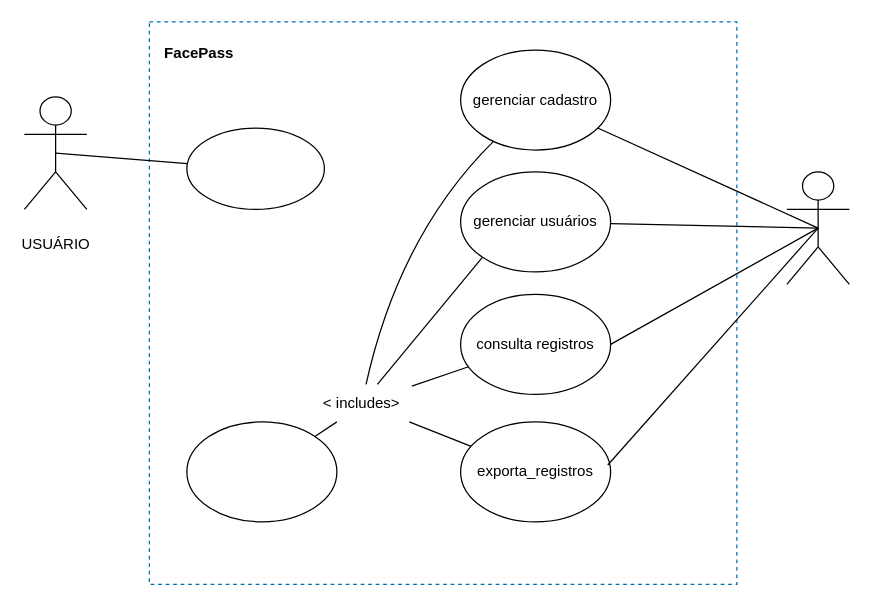
Some shapes in this 871 by 606 pixel diagram are drawn without their labels. The shapes that lost their labels are listed below. From the top down, each one's centre as x and y in pixels, then its label:
the point at 255,168: solicita cadastro
the point at 817,227: GESTOR
the point at 261,471: autenticado
